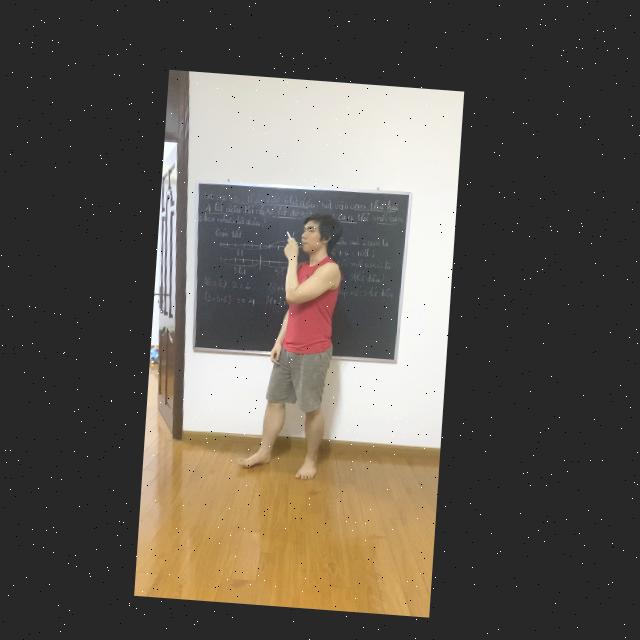cigarette: (288, 226, 294, 237)
